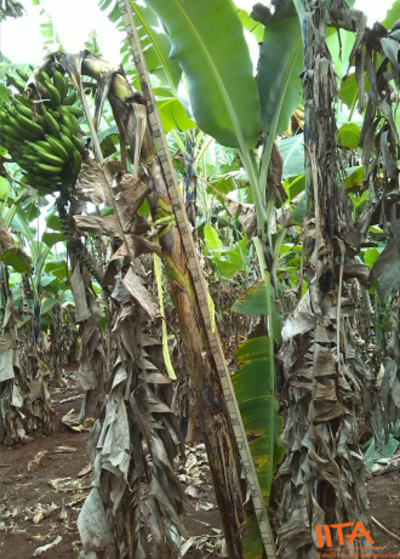bananaHand: (1, 60, 89, 194)
